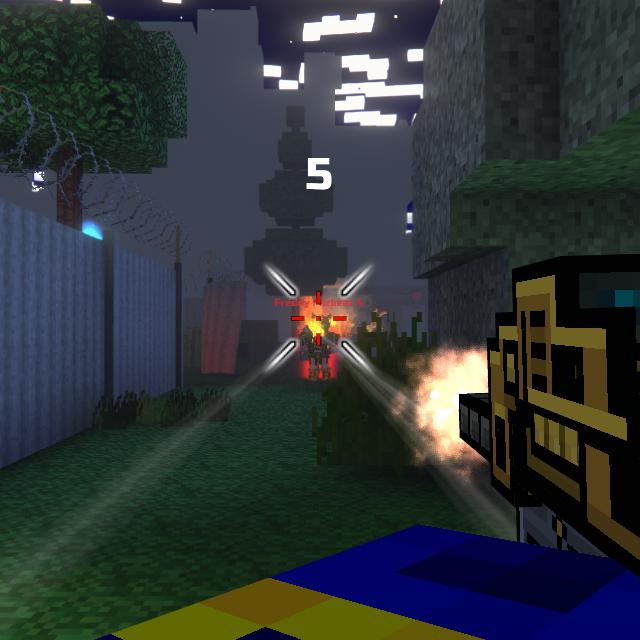Enemy: (297, 314, 338, 381)
